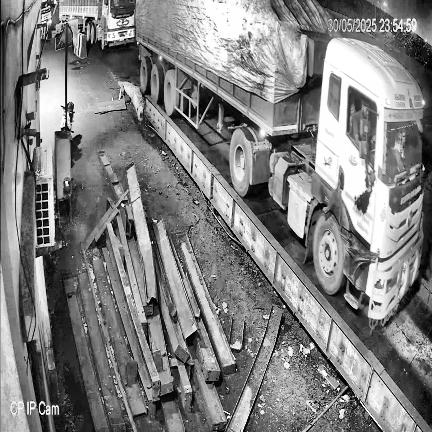tyre: (313, 212, 343, 294), (230, 128, 254, 196), (164, 69, 179, 116), (150, 63, 164, 103), (140, 56, 152, 95)
